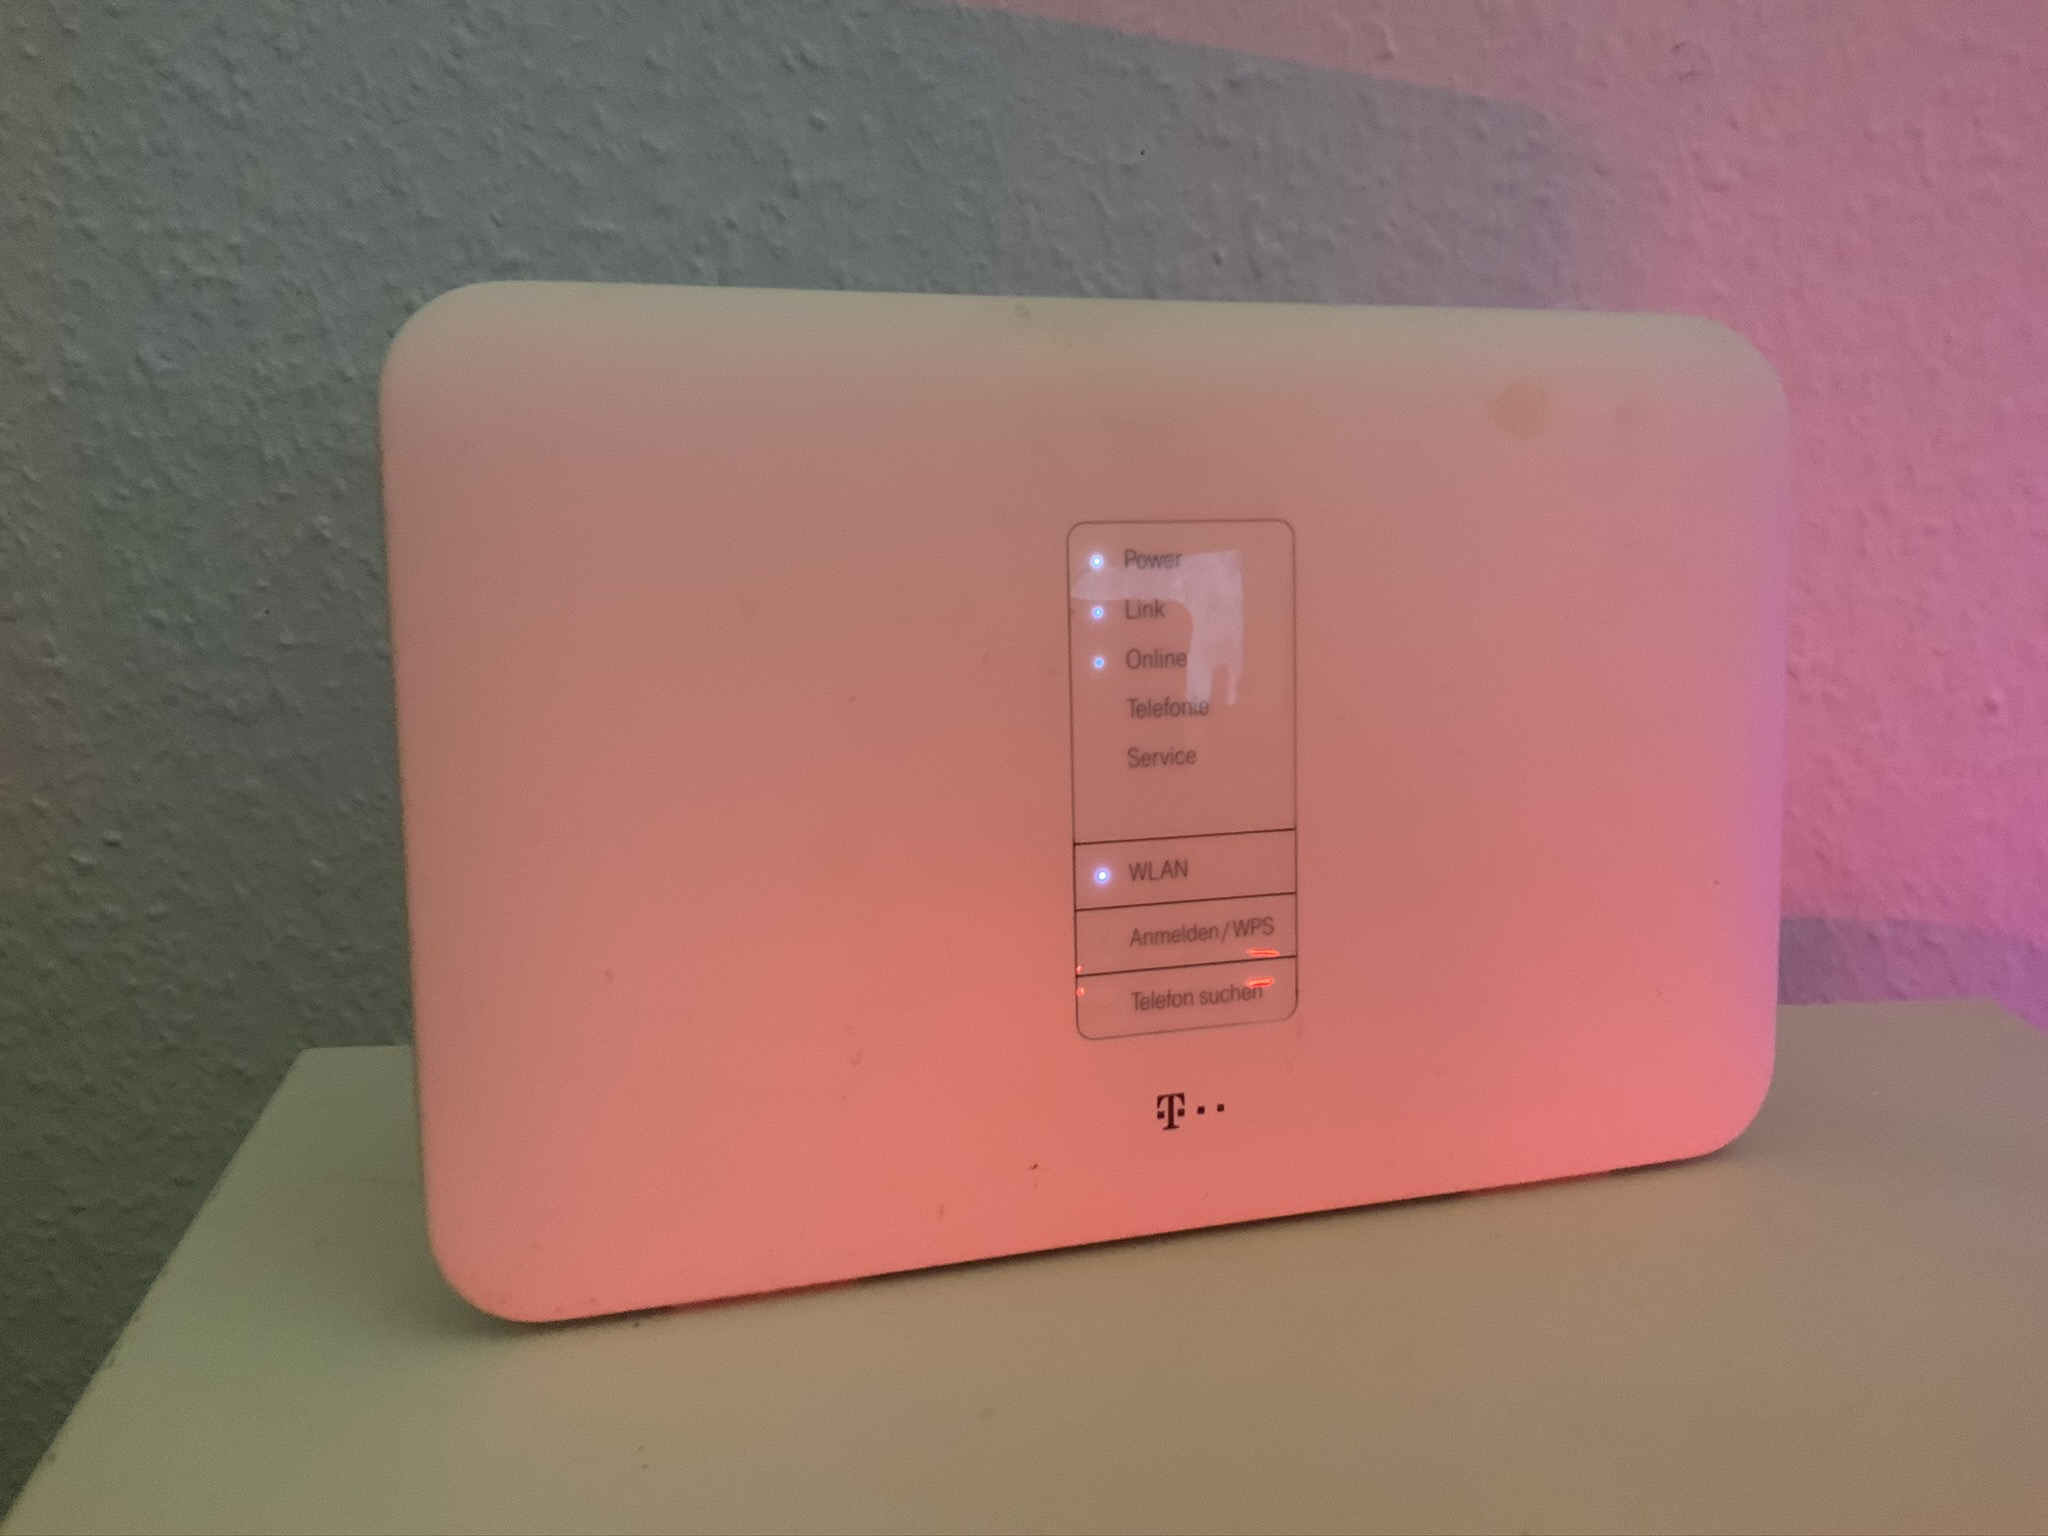router: (369, 268, 1801, 1342)
